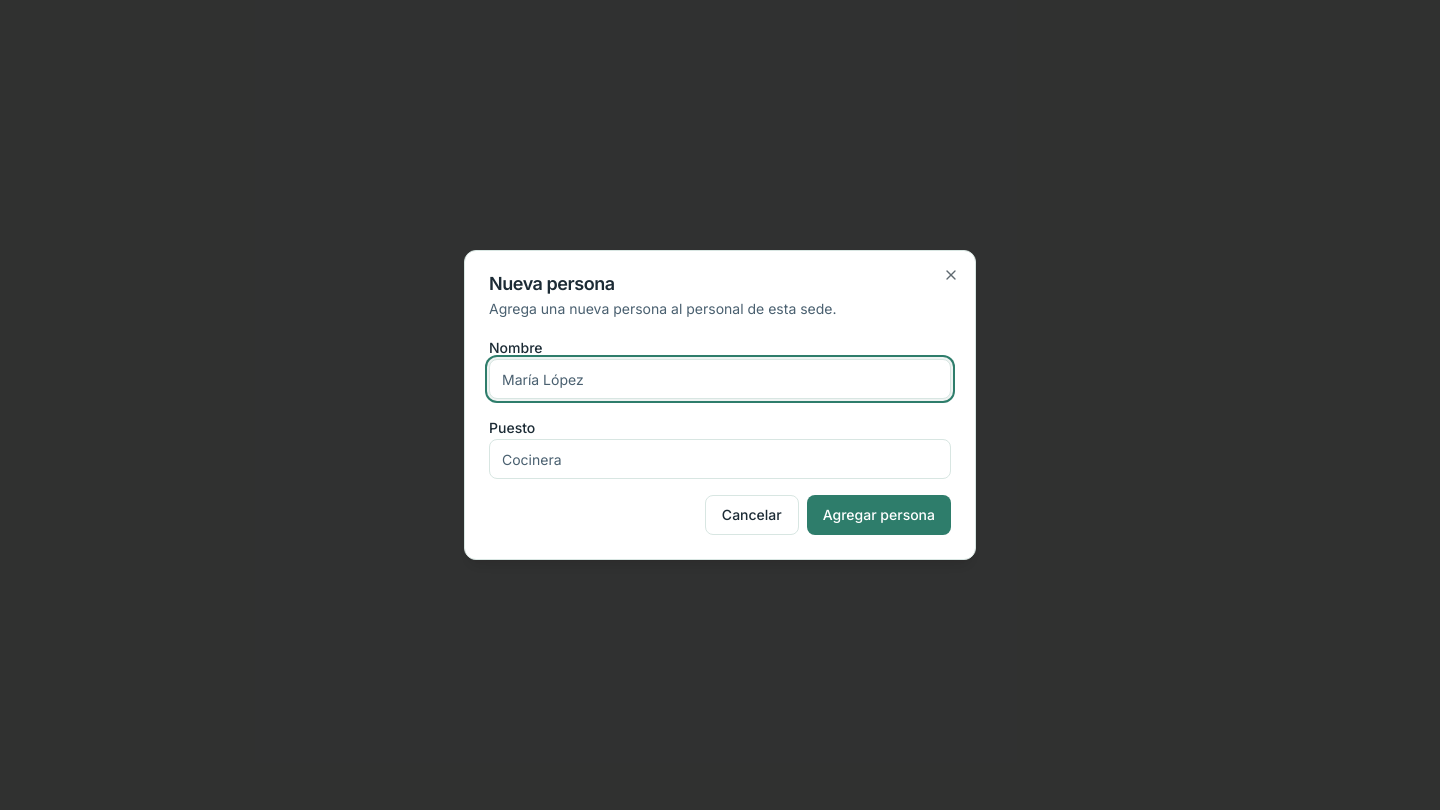
Scenario: StaffFormDialog - create mode › shows validation error when role is too short
The width and height of the screenshot is (1440, 810).
Type "María" into the field labelled "Nombre". click: {"x": 720, "y": 379}
box: [489,359,951,399]
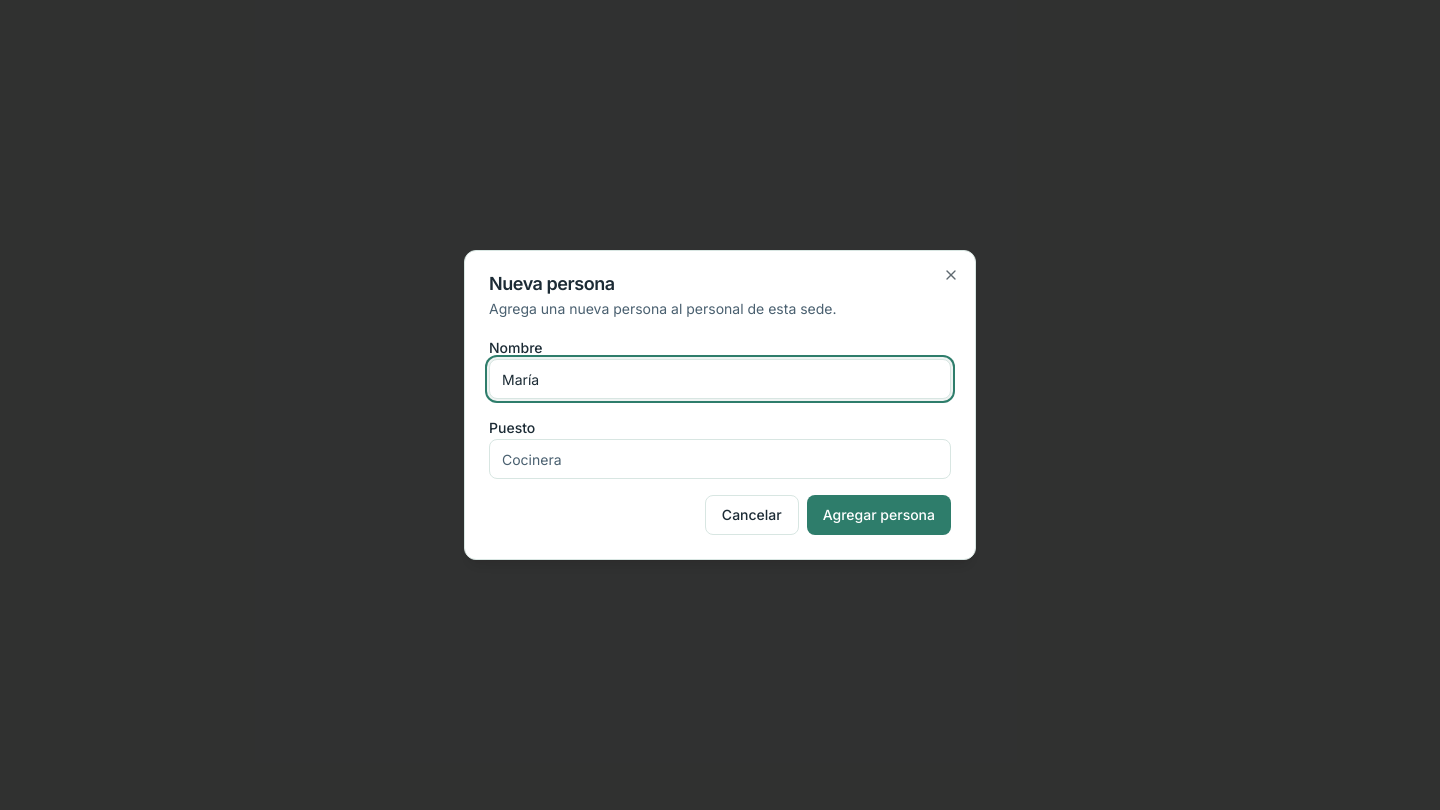
Type "A" into the field labelled "Puesto". click: {"x": 720, "y": 459}
box: [489,439,951,479]
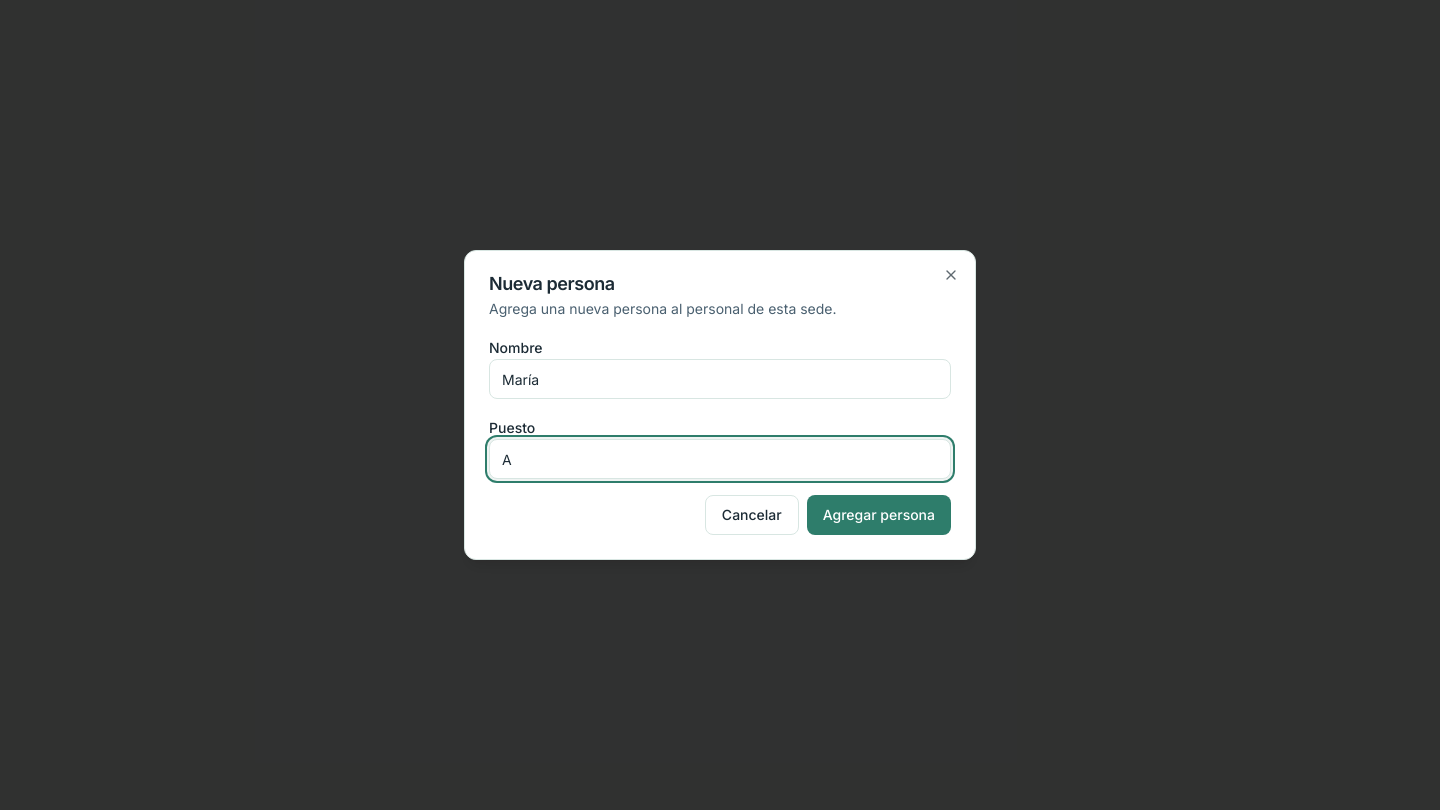
Click the button "Agregar persona". click: {"x": 879, "y": 515}
box: [807,495,951,535]
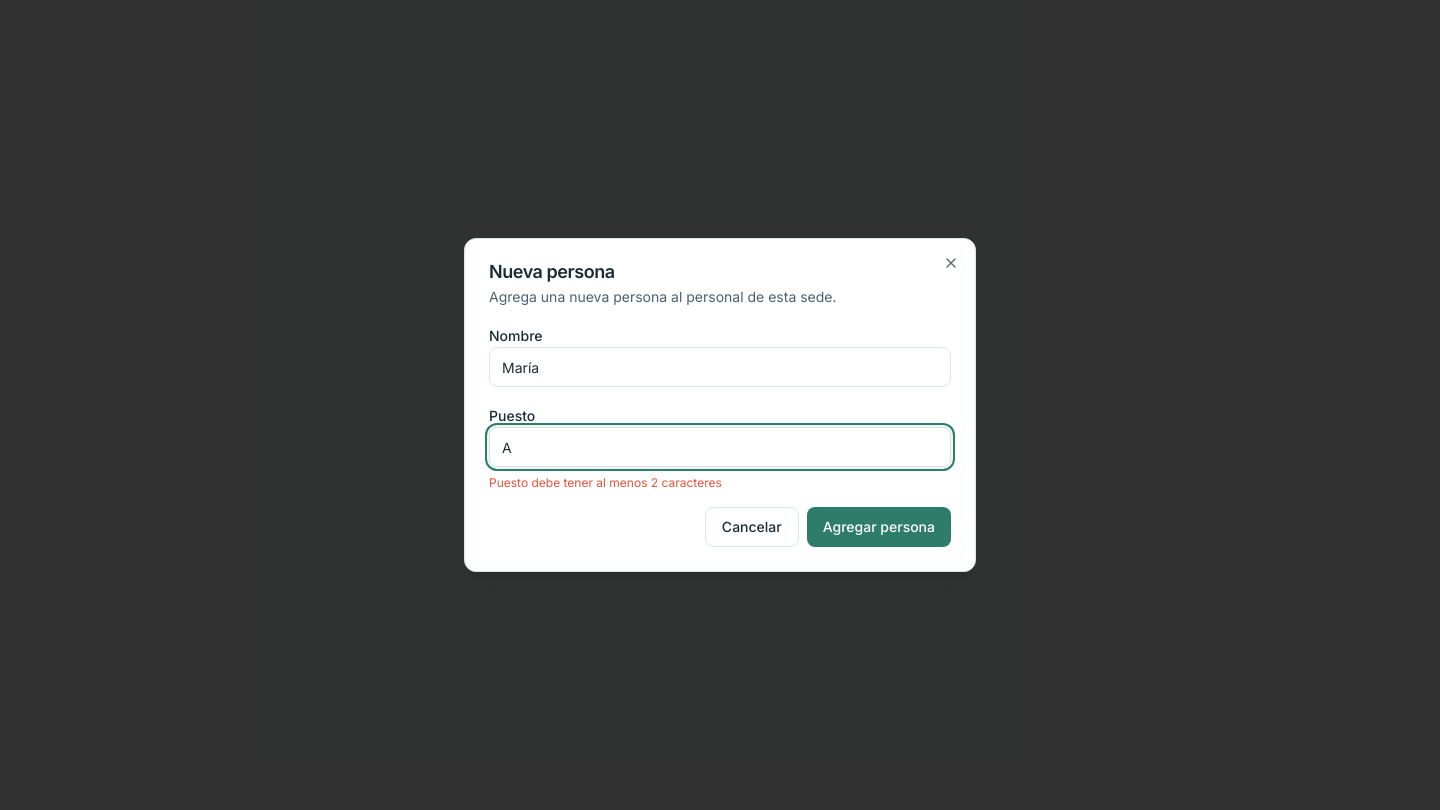
Expected: the text "Puesto debe tener al menos 2 caracteres" is shown, [489,475,722,490]
